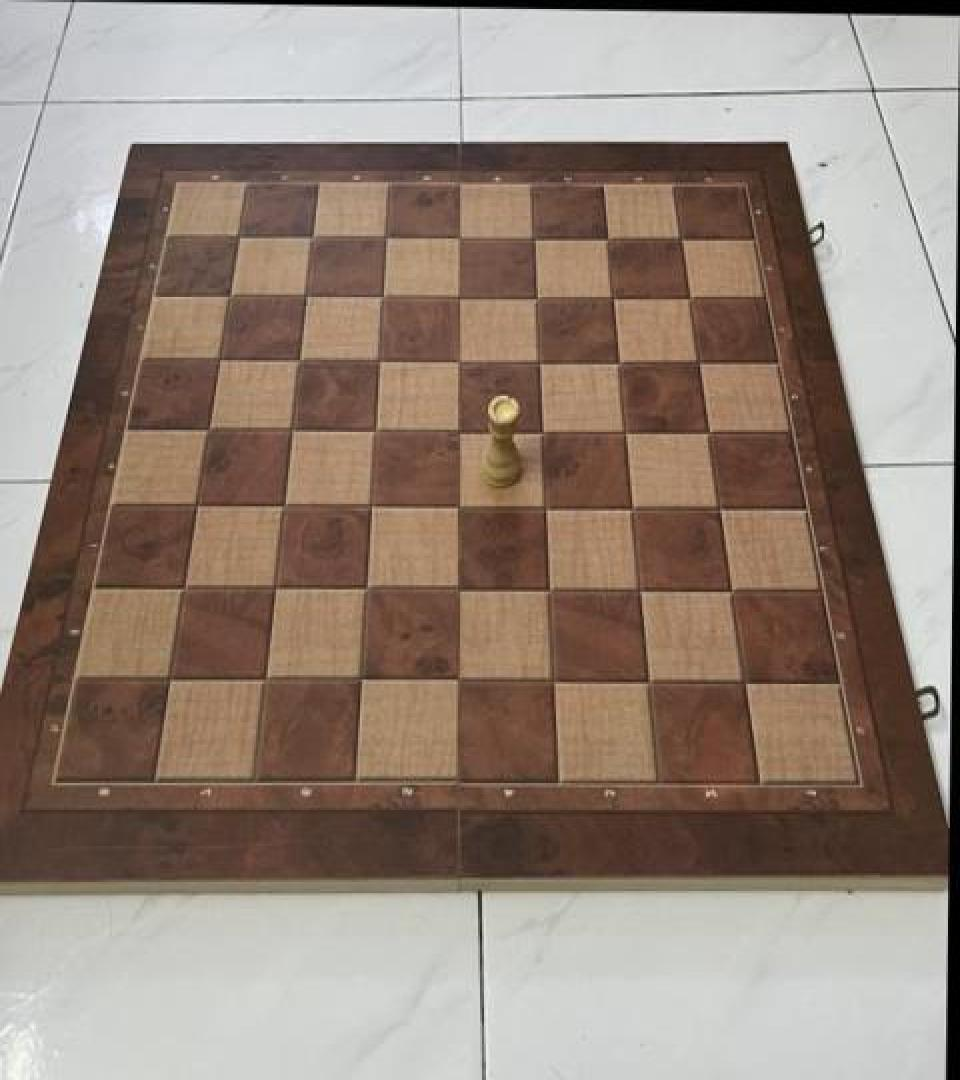xcorner: (592, 219, 626, 258), (348, 661, 382, 700), (222, 215, 256, 253), (296, 216, 330, 254), (370, 217, 404, 255), (444, 218, 478, 256), (518, 218, 552, 256), (666, 220, 700, 258), (213, 274, 247, 312), (290, 276, 324, 314), (367, 277, 401, 315), (444, 277, 478, 315), (521, 278, 555, 316), (598, 279, 632, 317), (674, 280, 708, 318), (203, 340, 237, 378), (284, 340, 318, 378), (364, 341, 398, 379), (444, 342, 478, 380), (524, 342, 558, 380), (604, 343, 638, 381), (684, 344, 718, 382), (193, 410, 227, 448), (277, 410, 311, 448), (360, 411, 394, 449), (444, 412, 478, 450), (527, 413, 561, 451), (611, 413, 645, 451), (694, 414, 728, 452), (182, 485, 216, 523), (269, 486, 303, 524), (357, 487, 391, 525), (444, 487, 478, 525), (531, 488, 565, 526), (618, 490, 652, 528), (705, 490, 739, 528), (170, 568, 204, 606), (261, 570, 295, 608), (352, 570, 386, 608), (444, 570, 478, 608), (535, 572, 569, 610), (626, 573, 660, 611), (717, 574, 751, 612), (156, 660, 190, 698), (252, 660, 286, 698), (444, 663, 478, 701), (539, 663, 573, 701), (635, 664, 669, 702), (730, 665, 764, 703)
